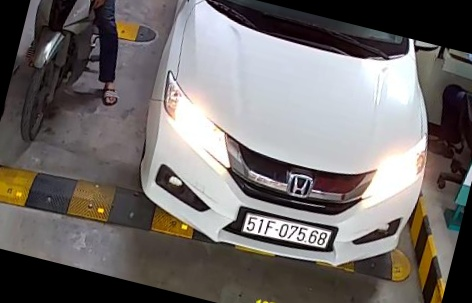plate: (233, 199, 337, 254)
